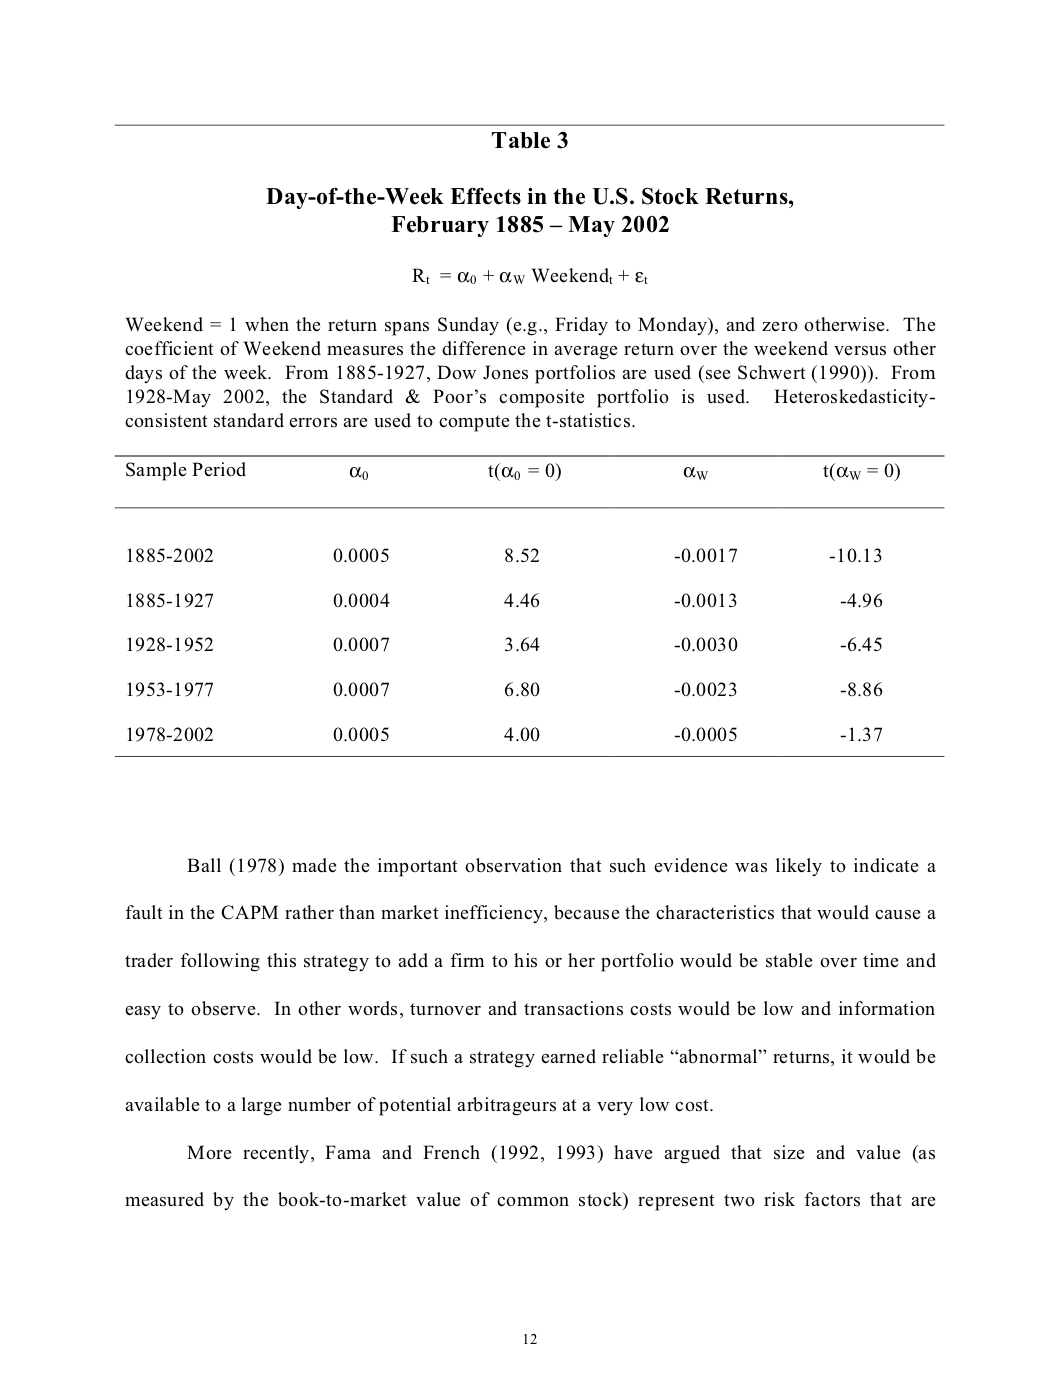Table: (114, 455, 944, 756)
formula: (412, 267, 648, 285)
